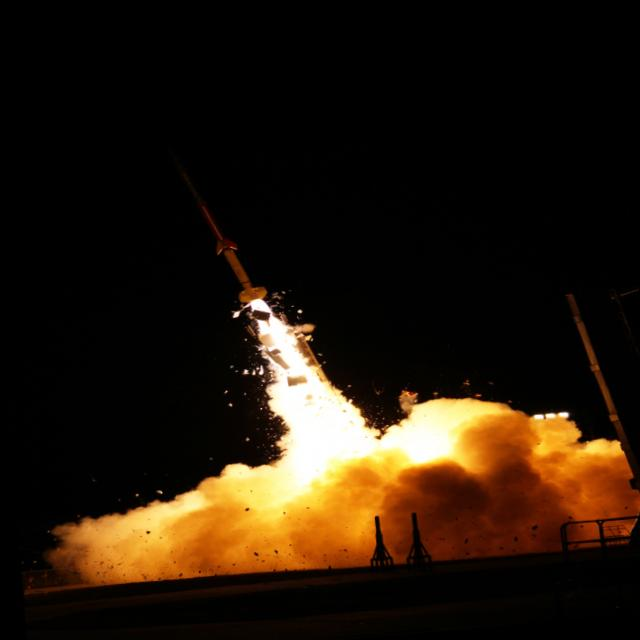rocket: (168, 158, 322, 376)
